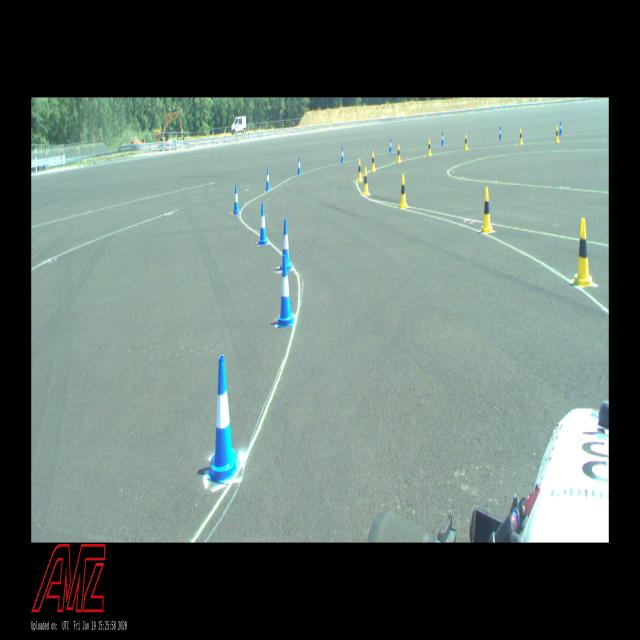blue_cone: (206, 356, 240, 482), (277, 255, 294, 327), (280, 219, 292, 271), (257, 204, 268, 245), (233, 185, 240, 214), (265, 168, 271, 191), (297, 157, 302, 175), (498, 126, 502, 140), (341, 147, 344, 163), (389, 138, 392, 153), (441, 132, 444, 146), (559, 121, 562, 134)
yellow_cone: (573, 218, 595, 286), (481, 187, 494, 233), (400, 174, 408, 208), (363, 167, 370, 195), (357, 158, 363, 182), (396, 144, 402, 163), (554, 126, 560, 143), (371, 151, 376, 171), (428, 138, 432, 156), (519, 129, 523, 145), (464, 134, 468, 150)
